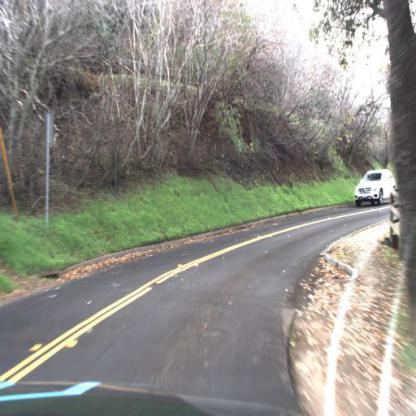car: (352, 164, 402, 208)
